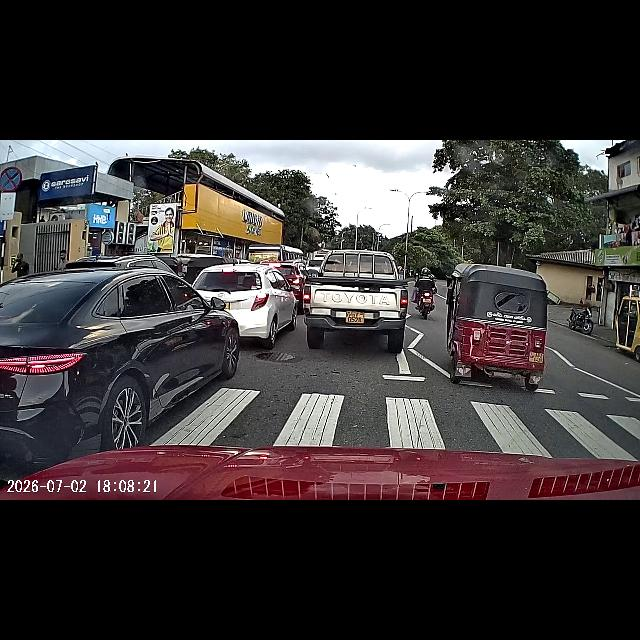car: (36, 274, 190, 408), (323, 250, 395, 344), (238, 268, 278, 340)
crosswalk: (225, 403, 570, 455)
helmet: (421, 269, 431, 275)
motorcycle: (417, 292, 435, 316)
number_plate: (338, 310, 368, 324)
person: (420, 268, 432, 298)
three_wheeler: (456, 265, 544, 385)
